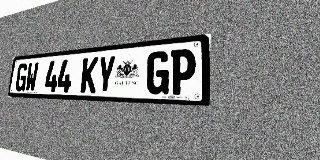4: (56, 59, 73, 92), (44, 60, 60, 92)
G: (146, 50, 170, 94), (15, 63, 28, 91)
K: (80, 57, 99, 93)
P: (169, 48, 196, 95)
W: (25, 62, 39, 92)
Y: (96, 55, 116, 93)
